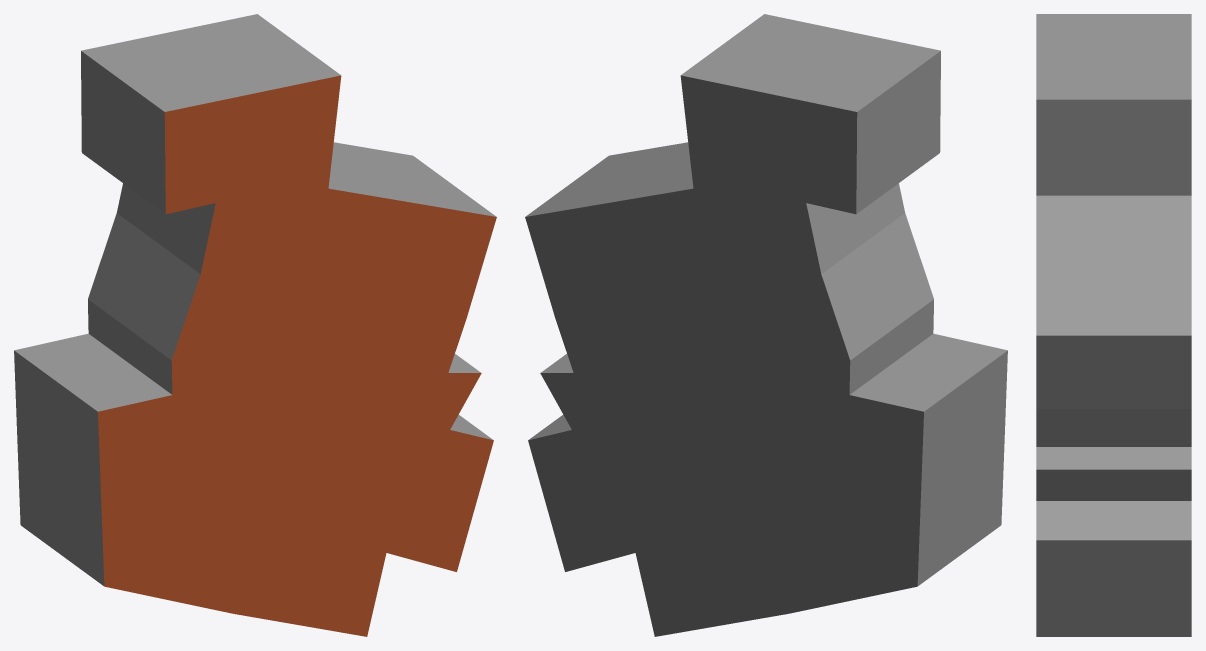
Rendered from construction_7096_assumed_A_Casa_h6m.obj.
The picture shows the model from 3 angles, left to right: view 1: azimuth 30°, elevation 25°; view 2: azimuth 150°, elevation 25°; view 3: azimuth 270°, elevation 25°; orthographic projection. The views are drawn at different scales.
Parts seen in each view (by area): view 1: construction_7096_assumed_A_Casa; view 2: construction_7096_assumed_A_Casa; view 3: construction_7096_assumed_A_Casa.
Part boxes in pixels (<box>): construction_7096_assumed_A_Casa: <box>14,14,496,636</box>; construction_7096_assumed_A_Casa: <box>525,14,1007,636</box>; construction_7096_assumed_A_Casa: <box>1036,14,1191,636</box>.
Bounding box in the file's own units: 16.48 × 22.66 × 6.
